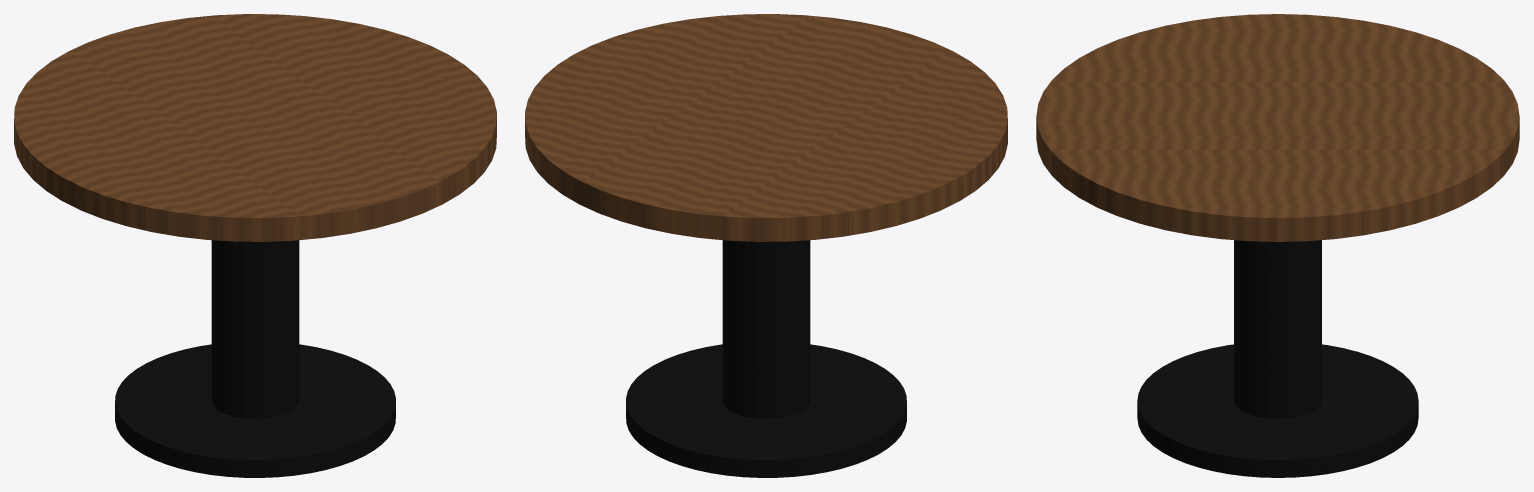
Rendered from table-round.glb.
3 views of the same model, side by side, from view 1: azimuth 30°, elevation 25°; view 2: azimuth 150°, elevation 25°; view 3: azimuth 270°, elevation 25° (orthographic).
Visible parts, largest first — view 1: top, base, pedestal; view 2: top, base, pedestal; view 3: top, base, pedestal.
Boxes of the visible parts, bbox=[...] form: top: bbox=[14, 14, 496, 241]; base: bbox=[115, 344, 395, 477]; pedestal: bbox=[211, 240, 299, 418]; top: bbox=[525, 14, 1007, 241]; base: bbox=[626, 344, 906, 477]; pedestal: bbox=[722, 240, 810, 418]; top: bbox=[1036, 14, 1519, 241]; base: bbox=[1137, 344, 1418, 477]; pedestal: bbox=[1234, 240, 1321, 418].
Bounding box in the file's own units: 1.1 × 0.76 × 1.1.
2 materials, 2 textured.
